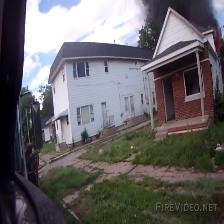nofire: (139, 58, 224, 133)
smoke: (135, 0, 224, 47)
